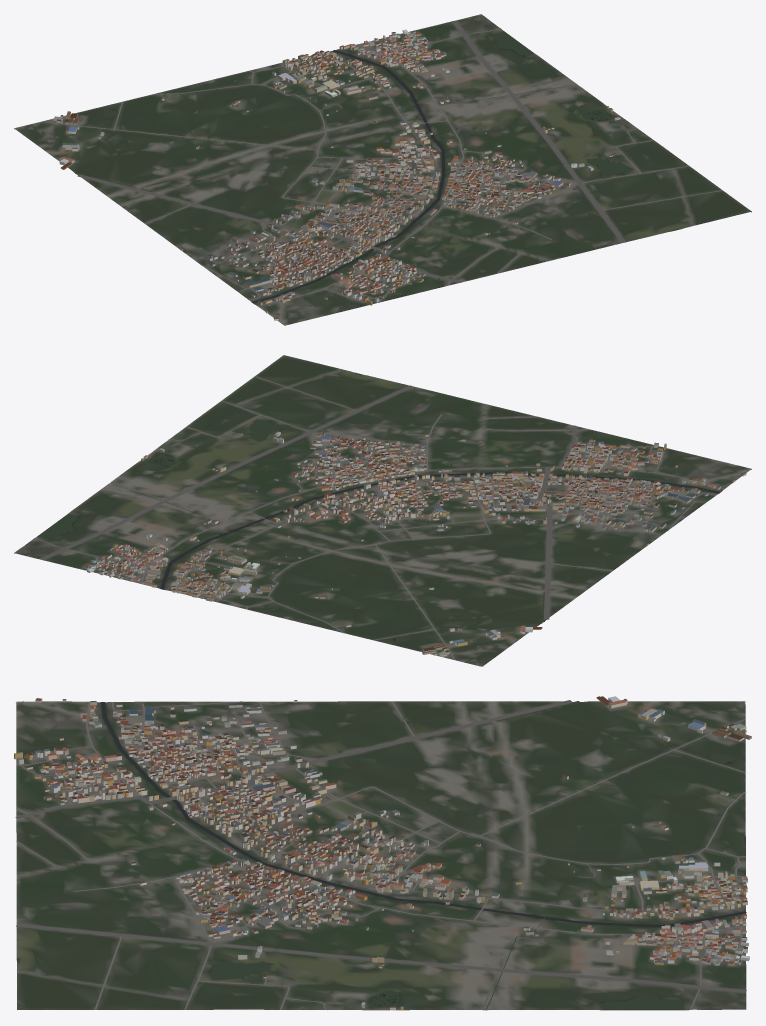
3 renders of one model, top to bottom at view 1: azimuth 30°, elevation 25°; view 2: azimuth 150°, elevation 25°; view 3: azimuth 270°, elevation 25°, orthographic. The views are drawn at different scales.
Visible parts, largest first — view 1: ground, buildings, roads, water; view 2: ground, buildings, roads, water; view 3: ground, buildings, roads, water.
Part boxes in pixels (bbox=[...]): ground: bbox=[14, 14, 751, 325]; buildings: bbox=[53, 29, 620, 320]; roads: bbox=[14, 20, 722, 324]; water: bbox=[75, 21, 680, 303]; ground: bbox=[14, 355, 751, 666]; buildings: bbox=[84, 431, 746, 656]; roads: bbox=[34, 369, 749, 666]; water: bbox=[25, 372, 720, 642]; ground: bbox=[16, 701, 746, 1010]; buildings: bbox=[14, 696, 751, 1010]; roads: bbox=[15, 700, 746, 1010]; water: bbox=[17, 701, 746, 1009].
Size of the model in its own units: 1422 by 21.31 by 1418.
